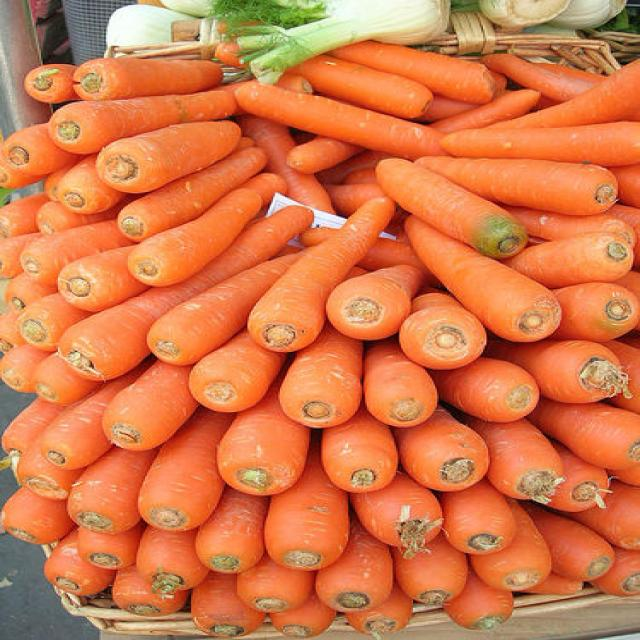carrot: (263, 66, 443, 142), (243, 254, 334, 356), (64, 30, 222, 84), (489, 265, 565, 368), (398, 172, 499, 246), (103, 377, 198, 453), (213, 430, 308, 504), (130, 472, 225, 536), (482, 432, 555, 512), (503, 149, 588, 210), (318, 424, 392, 492), (264, 513, 354, 568), (562, 280, 640, 343), (33, 92, 149, 134), (363, 374, 441, 436), (166, 299, 252, 355), (574, 218, 640, 290), (0, 488, 74, 549), (60, 255, 137, 312), (446, 588, 541, 634), (67, 321, 141, 380), (557, 528, 627, 590), (366, 495, 444, 550), (548, 341, 618, 402), (444, 506, 530, 554), (286, 374, 362, 428), (42, 422, 118, 474), (97, 138, 184, 183), (341, 268, 393, 343), (410, 310, 481, 364), (245, 570, 323, 618), (179, 367, 269, 408), (457, 374, 538, 419), (129, 236, 213, 279), (305, 558, 390, 600), (590, 412, 640, 482), (51, 161, 115, 215), (554, 86, 640, 124), (73, 488, 143, 533), (398, 565, 464, 604), (22, 229, 65, 275)
